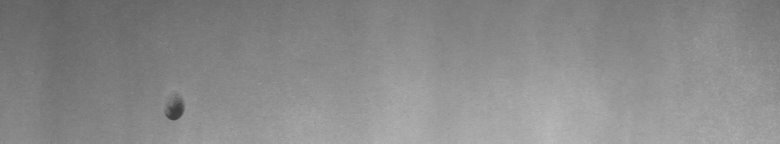fi: (160, 87, 191, 128)
